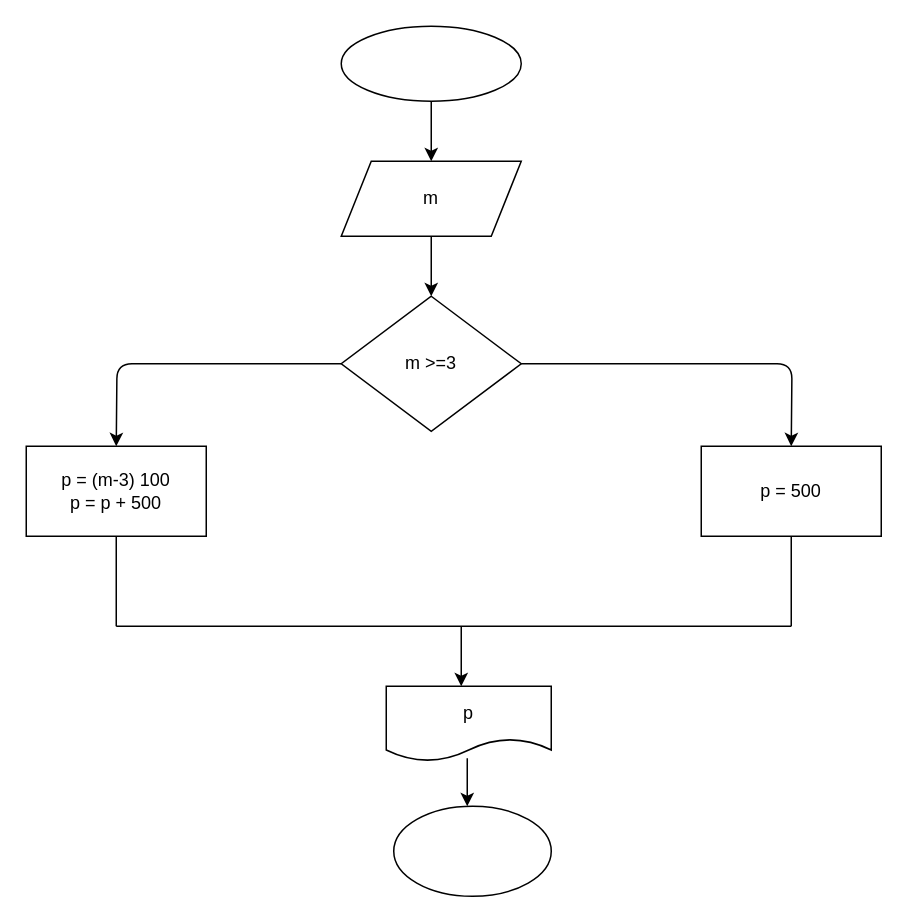
Some shapes in this 908 by 923 pixel diagram are drawn without their labels. The shapes that lost their labels are listed below. From the top down, each one's centre as x and y in pixels, then its label:
the point at 430,63: inicio
the point at 471,850: fin
